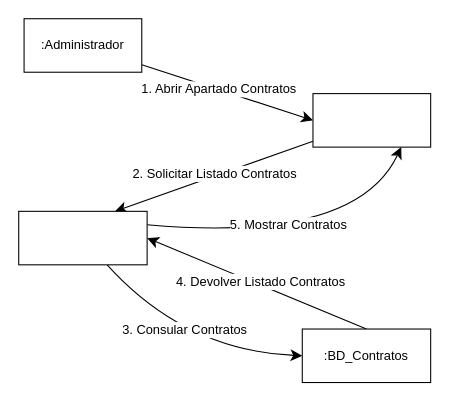
Image size: 449x401. Some labels were removed from this diagram. Each missing label, with the box of its shape:
:GestionarContratos: (18, 210, 147, 265)
:UI_Contratos: (312, 93, 431, 147)
